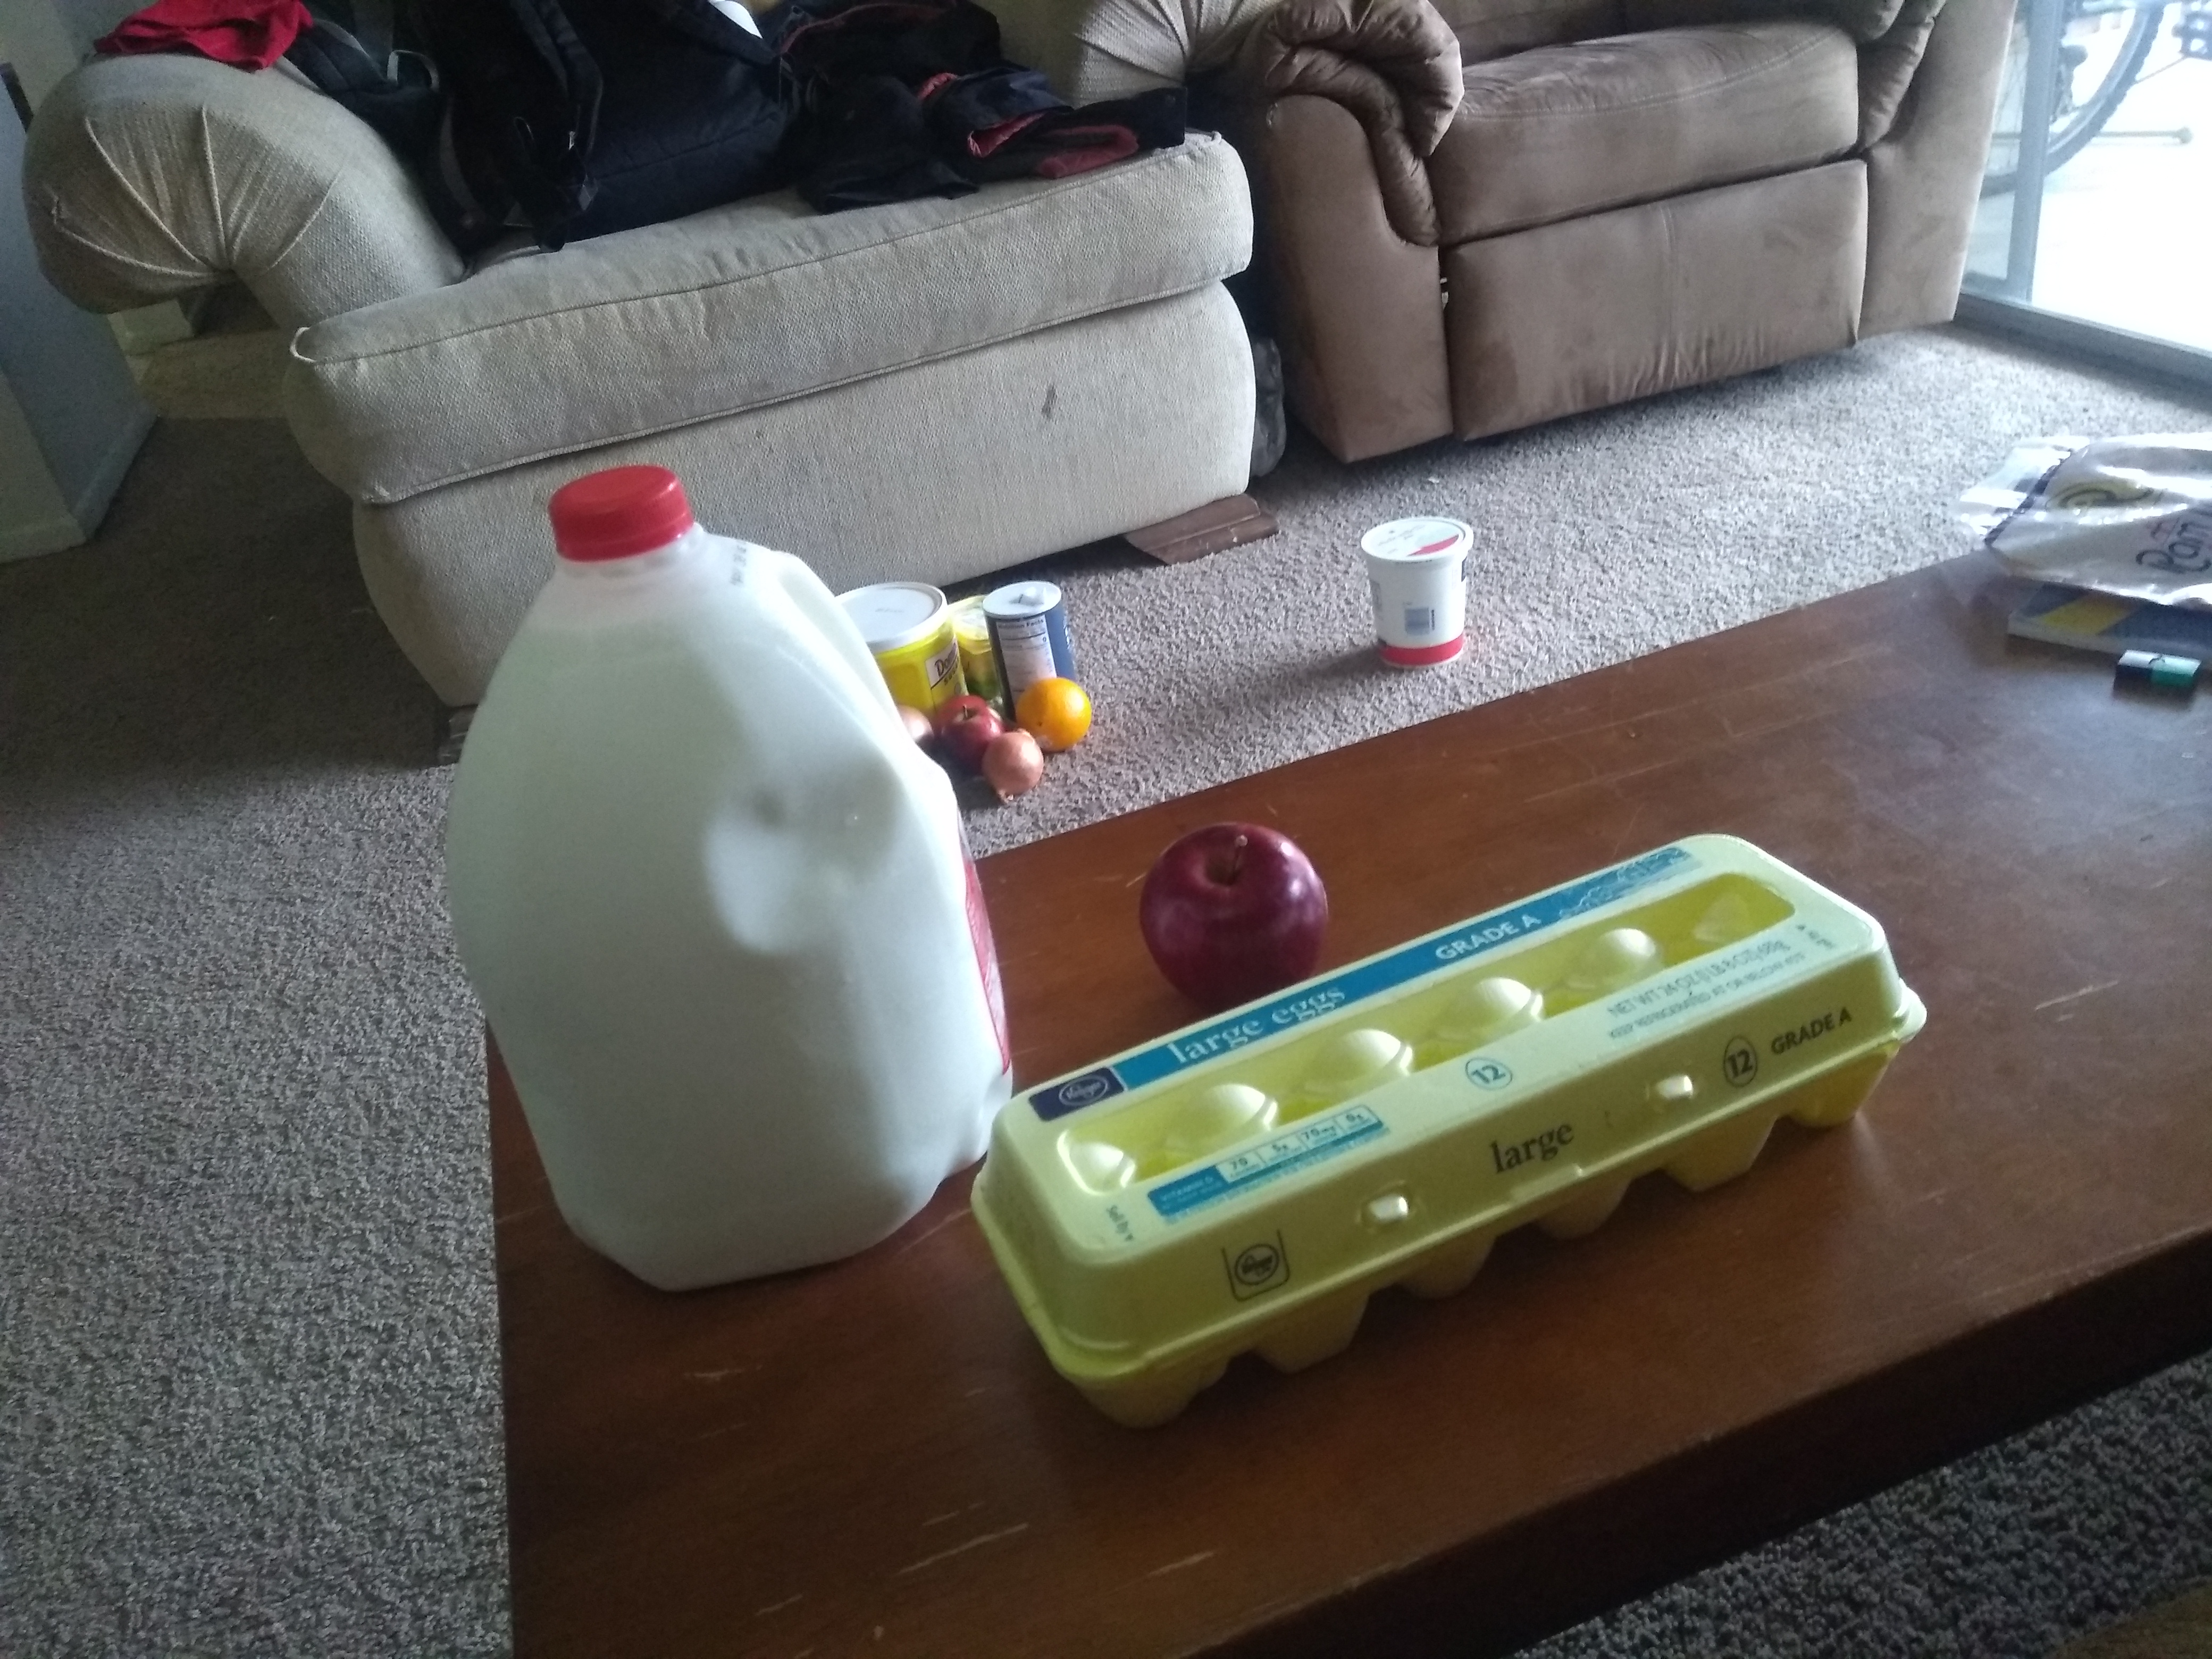apple: (1132, 823, 1329, 990), (939, 701, 996, 755)
butter: (942, 596, 996, 680)
eggs: (1157, 941, 1909, 1443)
milk: (415, 453, 996, 1262)
onion: (995, 732, 1038, 796)
orange: (1015, 681, 1090, 737)
salt: (991, 580, 1076, 692)
sugar: (845, 575, 942, 699)
yogurt: (1353, 516, 1477, 674)
